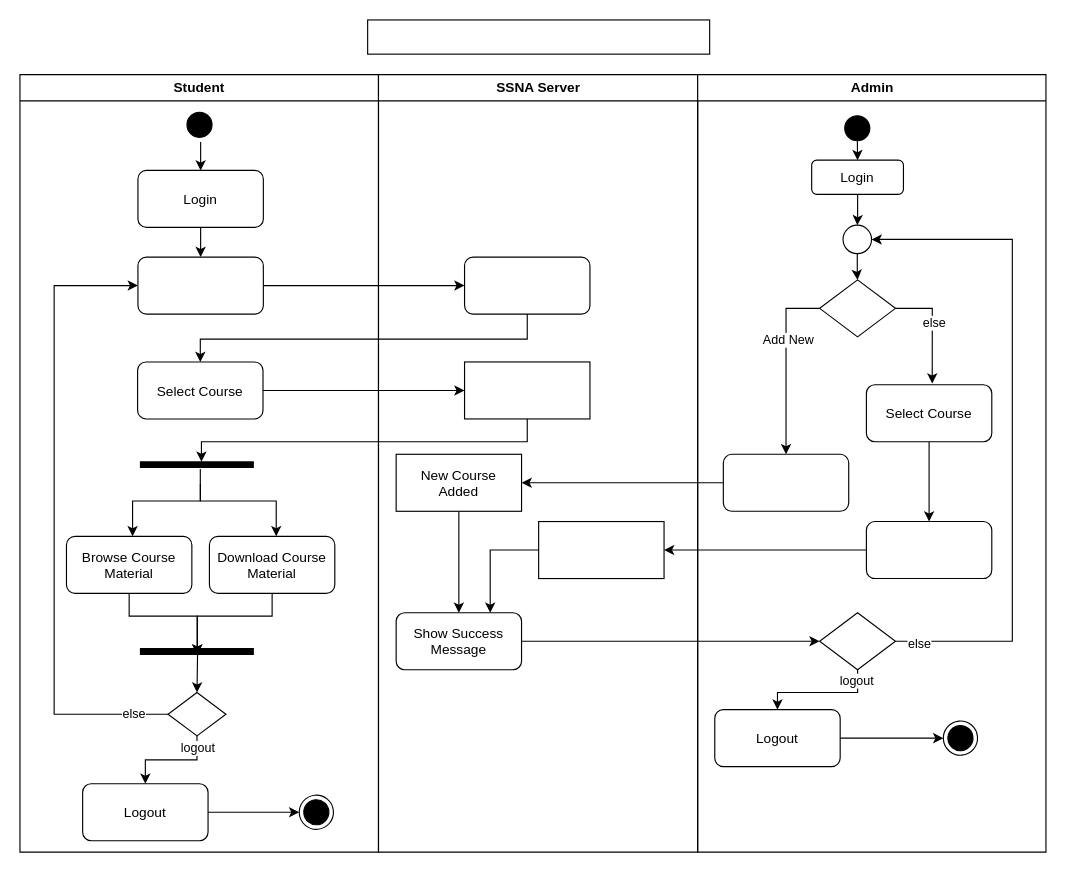
Some shapes in this 1066 by 872 pixel diagram are drawn without their labels. The centre of each missing label's shape, as x and y in pixels:
"Accessing Course Material" belongs at (x=538, y=36).
"Add New Course" belongs at (x=785, y=482).
"Browse Courses" belongs at (x=200, y=285).
"Course Material" belongs at (x=526, y=390).
"Edit Course Material" belongs at (x=928, y=549).
"Fetch Course Data" belongs at (x=526, y=285).
"Remove/Update Course(Material)" belongs at (x=601, y=549).
